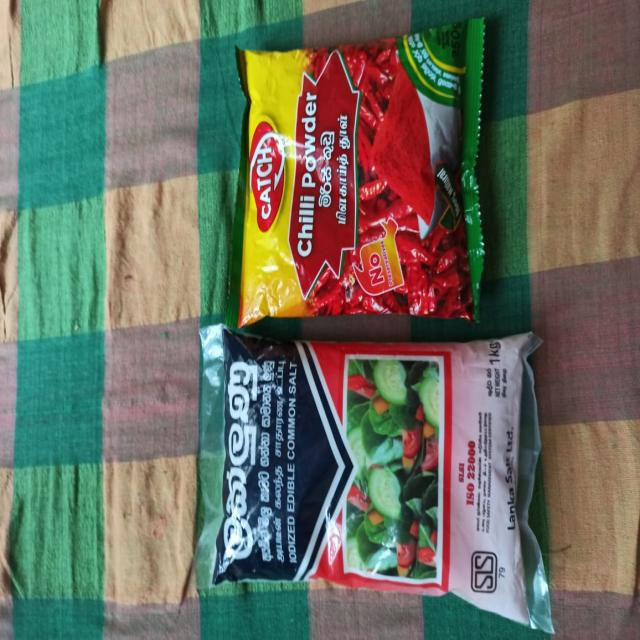Chilli Powder: (188, 25, 507, 334)
Lak Lunu: (182, 330, 559, 640)
